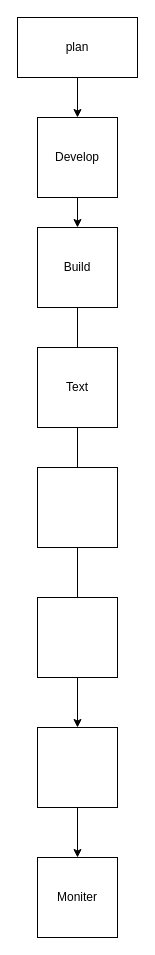
This 155x955 diagram has some shape labels left out. Here are the shapes that lost their labels. From the top down, the centre of each, then its label:
At (x=77, y=507): "Relese".
At (x=77, y=637): "deploye".
At (x=77, y=767): "Operate".
